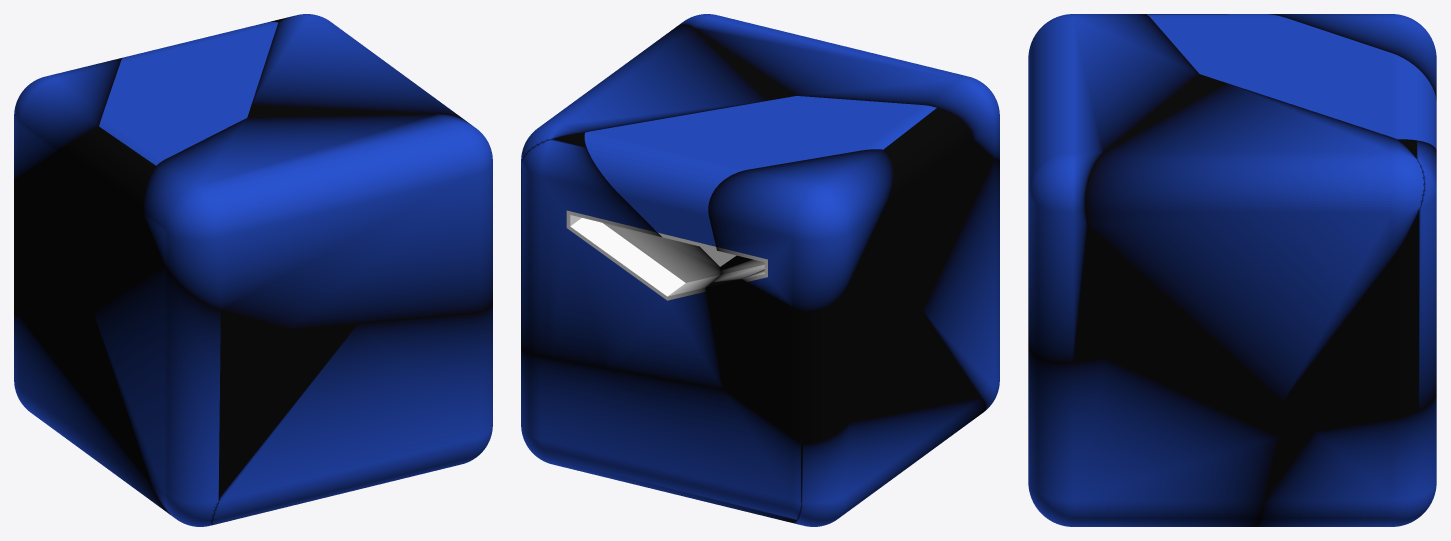
The model's file is Cube_Break_1.fbx.
3 views of the same model, side by side, from view 1: azimuth 30°, elevation 25°; view 2: azimuth 150°, elevation 25°; view 3: azimuth 270°, elevation 25° (orthographic). The views are drawn at different scales.
Parts seen in each view (by area): view 1: Beat_Saber_block_1_fracturepart2_2, Beat_Saber_block_1_fracturepart7_2, Beat_Saber_block_1_fracturepart10_2, Beat_Saber_block_1_fracturepart4_3, Beat_Saber_block_1_fracturepart9_3, Beat_Saber_block_1_fracturepart3_2, Beat_Saber_block_1_fracturepart1_2, Beat_Saber_block_1_fracturepart6_3; view 2: Beat_Saber_block_1_fracturepart4_3, Beat_Saber_block_1_fracturepart5_2, Beat_Saber_block_1_fracturepart8_3, Beat_Saber_block_1_fracturepart9_3, Beat_Saber_block_1_fracturepart6_3, Beat_Saber_block_1_fracturepart1_2, Beat_Saber_block_1_fracturepart2_2, Beat_Saber_block_1_fracturepart3_2, Beat_Saber_block_1_fracturepart10_2, Beat_Saber_block_1_fracturepart8_4, Beat_Saber_block_1_fracturepart4_4, Beat_Saber_block_1_fracturepart9_4; view 3: Beat_Saber_block_1_fracturepart3_2, Beat_Saber_block_1_fracturepart7_2, Beat_Saber_block_1_fracturepart2_2, Beat_Saber_block_1_fracturepart8_3, Beat_Saber_block_1_fracturepart9_3, Beat_Saber_block_1_fracturepart5_2, Beat_Saber_block_1_fracturepart6_3.
Part boxes in pixels (<box>): Beat_Saber_block_1_fracturepart2_2: <box>143,114,492,329</box>; Beat_Saber_block_1_fracturepart7_2: <box>212,302,492,524</box>; Beat_Saber_block_1_fracturepart10_2: <box>86,234,288,526</box>; Beat_Saber_block_1_fracturepart4_3: <box>14,126,155,321</box>; Beat_Saber_block_1_fracturepart9_3: <box>99,22,278,165</box>; Beat_Saber_block_1_fracturepart3_2: <box>247,14,466,121</box>; Beat_Saber_block_1_fracturepart1_2: <box>14,315,170,514</box>; Beat_Saber_block_1_fracturepart6_3: <box>14,57,122,180</box>; Beat_Saber_block_1_fracturepart4_3: <box>706,108,975,443</box>; Beat_Saber_block_1_fracturepart5_2: <box>521,348,801,522</box>; Beat_Saber_block_1_fracturepart8_3: <box>521,132,723,389</box>; Beat_Saber_block_1_fracturepart9_3: <box>584,96,936,246</box>; Beat_Saber_block_1_fracturepart6_3: <box>708,149,893,311</box>; Beat_Saber_block_1_fracturepart1_2: <box>792,331,985,526</box>; Beat_Saber_block_1_fracturepart2_2: <box>678,14,999,161</box>; Beat_Saber_block_1_fracturepart3_2: <box>521,24,796,167</box>; Beat_Saber_block_1_fracturepart10_2: <box>915,154,999,412</box>; Beat_Saber_block_1_fracturepart8_4: <box>566,210,721,300</box>; Beat_Saber_block_1_fracturepart4_4: <box>706,255,764,291</box>; Beat_Saber_block_1_fracturepart9_4: <box>658,232,736,266</box>; Beat_Saber_block_1_fracturepart3_2: <box>1085,74,1424,420</box>; Beat_Saber_block_1_fracturepart7_2: <box>1028,346,1278,526</box>; Beat_Saber_block_1_fracturepart2_2: <box>1028,14,1199,362</box>; Beat_Saber_block_1_fracturepart8_3: <box>1268,139,1436,436</box>; Beat_Saber_block_1_fracturepart9_3: <box>1146,14,1436,149</box>; Beat_Saber_block_1_fracturepart5_2: <box>1255,393,1436,526</box>; Beat_Saber_block_1_fracturepart6_3: <box>1268,14,1436,100</box>.
Bounding box in the file's own units: 10 × 10 × 10.
